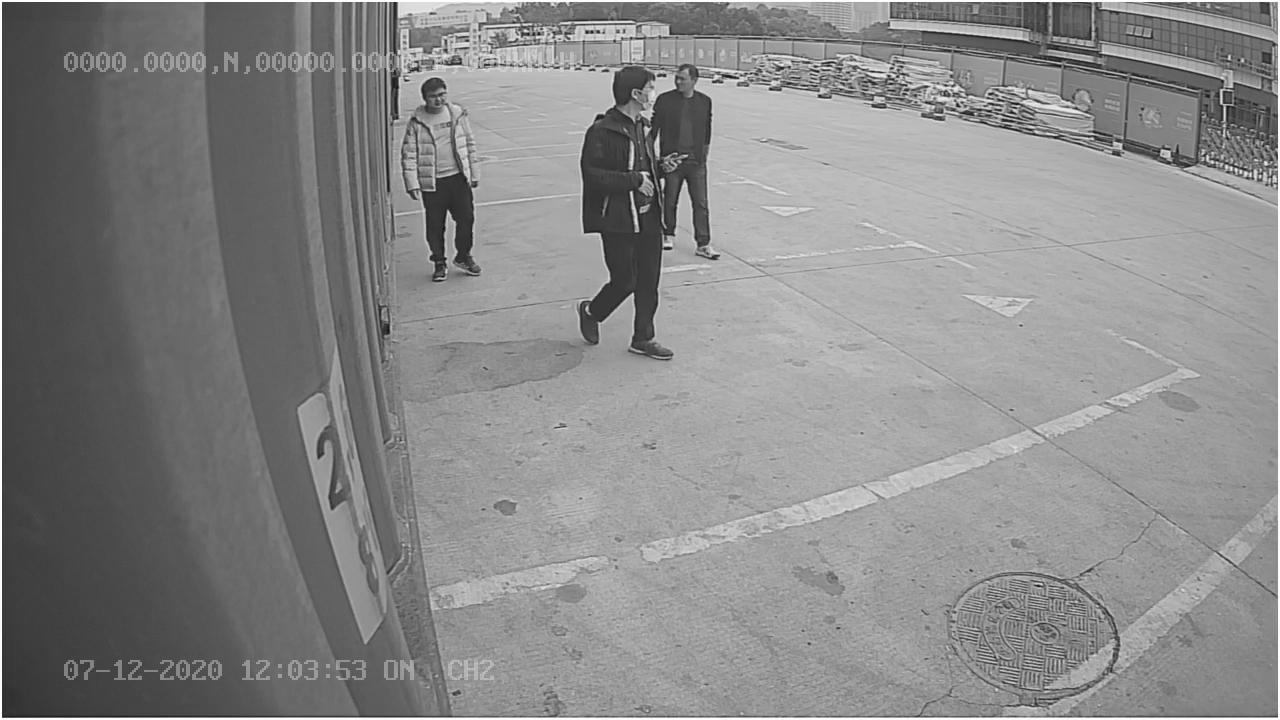person: (569, 65, 675, 358)
